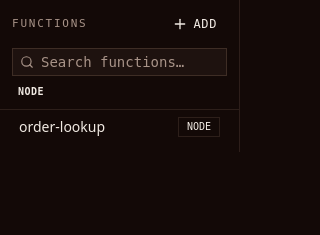
shows a dedicated empty state when the filters match nothing, distinct from having no functions at all
The image size is (320, 235).
Step 1. Type "nope" into the field with placeholder "Search functions…" → (120, 62), box [12, 48, 227, 76]
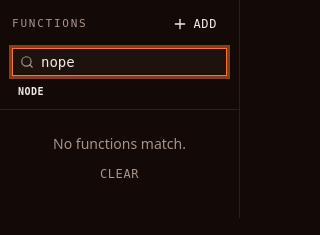
Expected: the list item "No functions match." is shown, [53, 134, 186, 153]
